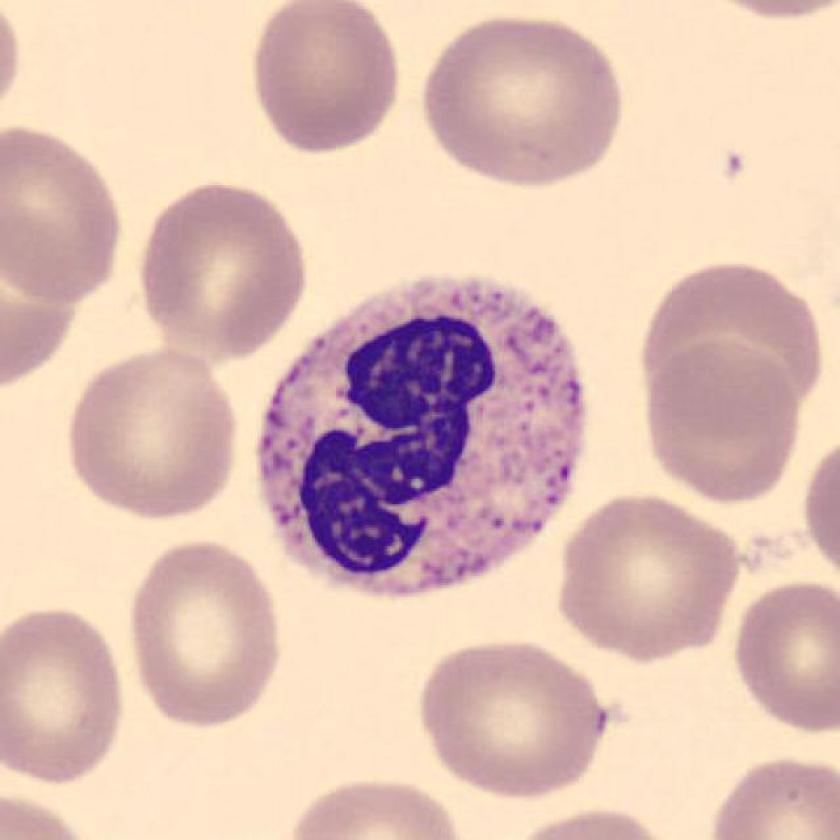neutrophil: (261, 279, 589, 598)
